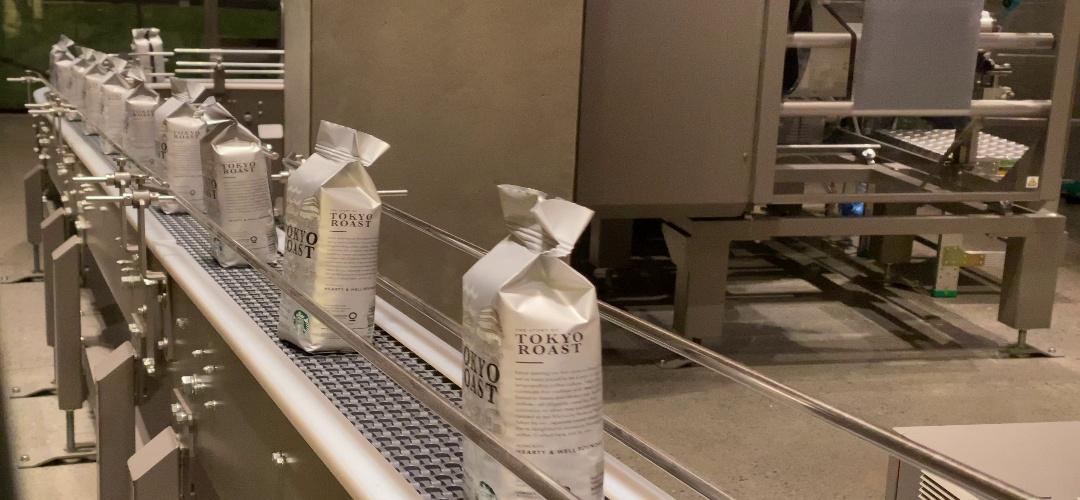conveyor: (461, 273, 604, 420), (286, 176, 378, 283), (199, 142, 271, 215)
